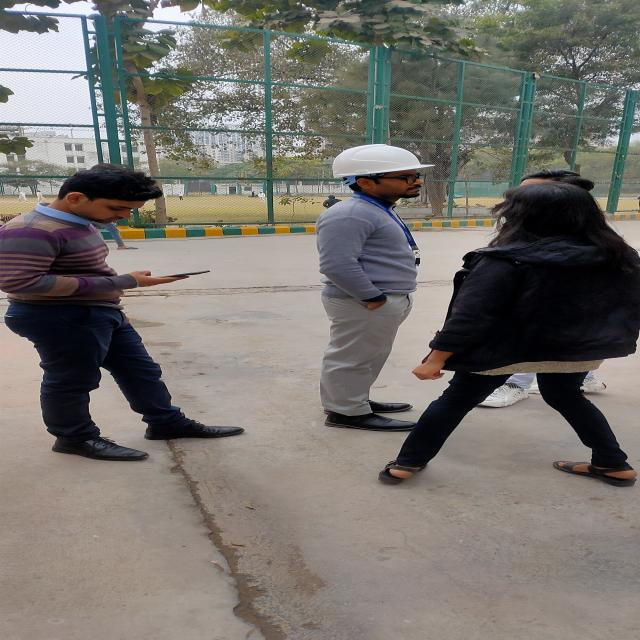no jacket: (318, 142, 434, 434)
unsafe: (387, 185, 640, 488), (0, 164, 246, 461)
